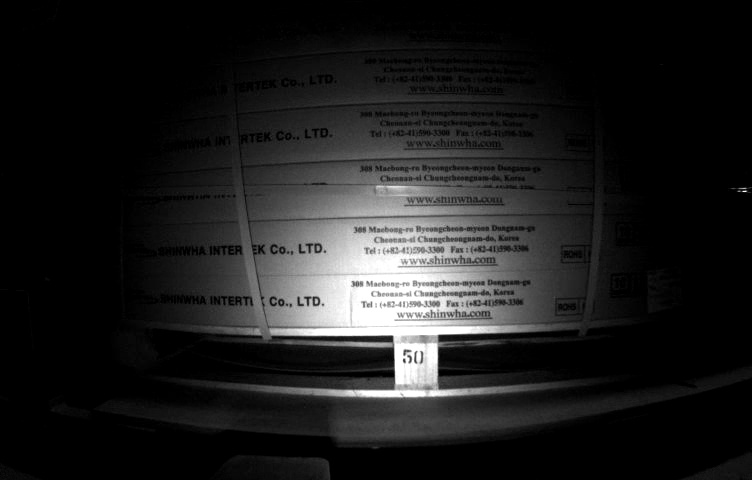True Barcode: (648, 266, 682, 312)
